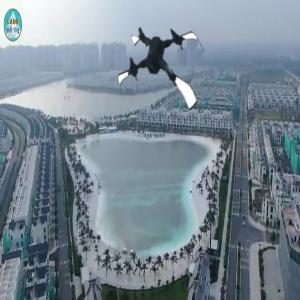drone: (113, 20, 214, 121)
